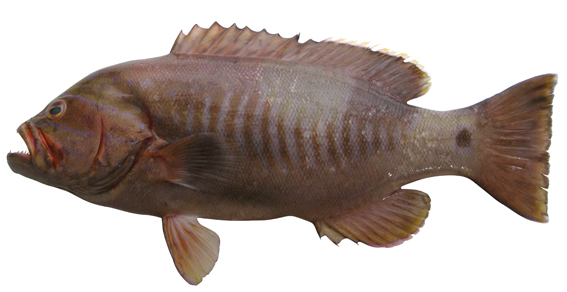fish: (6, 21, 558, 286)
